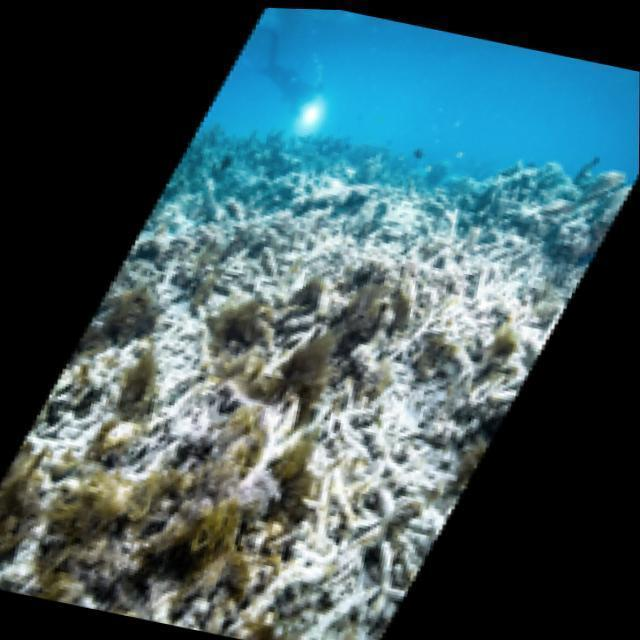Dead Coral: (190, 317, 447, 640), (66, 290, 302, 529), (321, 152, 531, 366), (0, 490, 231, 632)
